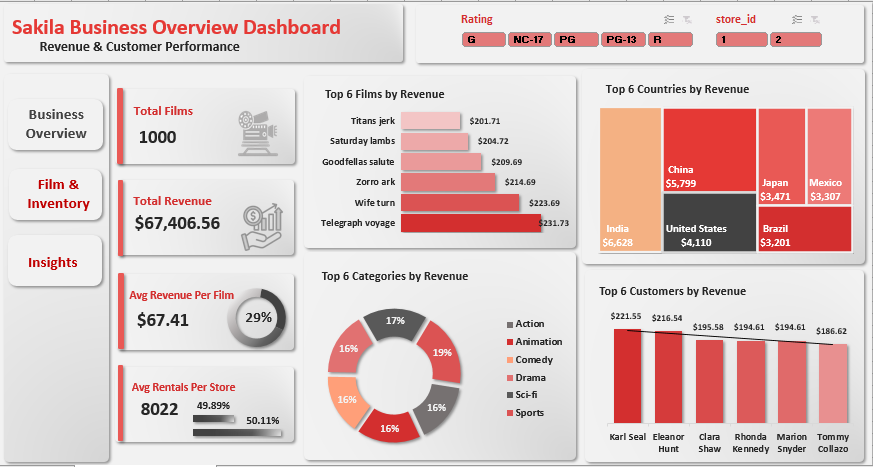

This screenshot's page, from the dashboard's own definition file:
{"tool":"powerbi","page":{"name":"business overview ","canvas":[1280,720],"ordinal":0},"visuals":[{"type":"shape","box":[0,0,1280.2,720],"z":0},{"type":"shape","box":[2.9,1.4,555.8,99.4],"z":1000},{"type":"shape","box":[0,99.4,138.2,620.6],"z":2000},{"type":"shape","box":[894.2,410.4,385.9,309.6],"z":3000},{"type":"shape","box":[893.6,104.1,386.4,310.8],"z":4000},{"type":"shape","box":[499.7,103.7,384.5,311],"z":5000},{"type":"shape","box":[499.7,410.4,384.5,309.6],"z":6000},{"type":"shape","box":[128.2,410.4,371.5,309.6],"z":7000},{"type":"shape","box":[128.2,262.1,181.4,149.8],"z":8000},{"type":"shape","box":[309.6,260.6,190.1,149.8],"z":9000},{"type":"shape","box":[312.5,110.9,190.1,149.8],"z":10000},{"type":"shape","box":[128.2,110.9,181.4,149.8],"z":11000},{"type":"textbox","box":[14.4,17.3,544.3,64.8],"z":12000},{"type":"shape","box":[0,158.4,128.2,102.2],"z":13000},{"type":"shape","box":[0,372.7,128.6,102.6],"z":14000},{"type":"textbox","box":[152.6,129.6,108,37.4],"z":15000},{"type":"shape","box":[128.2,110.9,25.9,149.8],"z":16000},{"type":"shape","box":[313.9,260.6,25.9,149.8],"z":17000},{"type":"shape","box":[128.2,262.1,25.9,149.8],"z":18000},{"type":"shape","box":[313.9,110.9,25.9,149.8],"z":19000},{"type":"textbox","box":[339.8,273.6,133.9,51.8],"z":20000},{"type":"textbox","box":[154.1,280.8,133.9,37.4],"z":21000},{"type":"textbox","box":[331.2,122.4,151.2,54.7],"z":22000},{"type":"cardVisual","fields":{"Data":["actor.FilmRevenue"]},"box":[144,299.8,166.3,68.1],"z":23000},{"type":"lineChart","fields":{"Y":["Sum(payment.amount)"],"Category":["date table.month name","date table.year"]},"box":[512.6,460.8,357.1,259.2],"z":24000},{"type":"columnChart","fields":{"Category":["customer.full name"],"Y":["Sum(payment.amount)"]},"box":[907.2,149.1,372.8,262.7],"z":25000},{"type":"barChart","fields":{"Category":["payment_sql.title"],"Y":["Sum(payment_sql.revenue)"]},"box":[506.9,129.6,377.3,273.6],"z":26000},{"type":"donutChart","fields":{"Category":["country_sql.country"],"Y":["Sum(country_sql.revenue)"]},"box":[133.9,423.4,368.6,296.6],"z":27000},{"type":"lineChart","fields":{"Category":["payment_sql.title"],"Y":["Sum(payment_sql.revenue)"]},"box":[138.2,337,175.7,70.6],"z":28000},{"type":"gauge","fields":{"Y":["actor.avg revenue per film"]},"box":[315.4,185.8,197.3,72],"z":29000},{"type":"gauge","fields":{"Y":["actor.avg rentals per store"]},"box":[321.1,335.5,178.6,72],"z":30000},{"type":"shape","box":[152.6,167,128.2,67.7],"z":31000},{"type":"cardVisual","fields":{"Data":["CountNonNull(film.title)"]},"box":[168.9,167.6,119.1,65.5],"z":32000},{"type":"treemap","fields":{"Group":["category.name"],"Values":["Sum(payment.amount)"]},"box":[141.1,460.8,347,252],"z":33000},{"type":"textbox","box":[54.7,51.8,325.4,37.4],"z":34000},{"type":"textbox","box":[518.4,121,260.6,37.4],"z":35000},{"type":"textbox","box":[518.4,423.4,260.6,37.4],"z":36000},{"type":"textbox","box":[144,423.4,260.6,37.4],"z":37000},{"type":"textbox","box":[907.2,423.4,260.6,37.4],"z":38000},{"type":"shape","box":[578.7,0,701.3,99.4],"z":39000},{"type":"textbox","box":[907.2,121,260.6,37.4],"z":40000},{"type":"slicer","fields":{"Values":["film.rating"]},"box":[607.7,14.4,165.6,70.6],"z":41000},{"type":"slicer","fields":{"Values":["store.store_id"]},"box":[789.4,11.8,209.5,77.2],"z":42000},{"type":"slicer","fields":{"Values":["category.name"]},"box":[1003.7,11.5,256.3,77.8],"z":43000},{"type":"shape","box":[0,270.7,128.2,102.2],"z":44000},{"type":"textbox","title":"Business Overview","box":[0,186.4,134.4,76.6],"z":45000},{"type":"actionButton","box":[13,286,99.7,73.7],"z":46000},{"type":"actionButton","box":[14.4,404.5,99.7,40.5],"z":47000},{"type":"filledMap","fields":{"Category":["country.country"]},"box":[907.2,460.8,361.4,241.9],"z":48000}]}

Visuals, with their boxes on the page's 1280x720 design canvas (x1, y1, x2, y2). These are canvas units, not pixel positions in the 873x467 screenshot, which may show the page scaled, cropped or inside an application window:
shape: box=[0, 0, 1280, 720]
shape: box=[3, 1, 559, 101]
shape: box=[0, 99, 138, 720]
shape: box=[894, 410, 1280, 720]
shape: box=[894, 104, 1280, 415]
shape: box=[500, 104, 884, 415]
shape: box=[500, 410, 884, 720]
shape: box=[128, 410, 500, 720]
shape: box=[128, 262, 310, 412]
shape: box=[310, 261, 500, 410]
shape: box=[312, 111, 503, 261]
shape: box=[128, 111, 310, 261]
textbox: box=[14, 17, 559, 82]
shape: box=[0, 158, 128, 261]
shape: box=[0, 373, 129, 475]
textbox: box=[153, 130, 261, 167]
shape: box=[128, 111, 154, 261]
shape: box=[314, 261, 340, 410]
shape: box=[128, 262, 154, 412]
shape: box=[314, 111, 340, 261]
textbox: box=[340, 274, 474, 325]
textbox: box=[154, 281, 288, 318]
textbox: box=[331, 122, 482, 177]
cardVisual - actor.FilmRevenue: box=[144, 300, 310, 368]
lineChart - Sum(payment.amount) x date table.month name: box=[513, 461, 870, 720]
columnChart - customer.full name x Sum(payment.amount): box=[907, 149, 1280, 412]
barChart - payment_sql.title x Sum(payment_sql.revenue): box=[507, 130, 884, 403]
donutChart - country_sql.country x Sum(country_sql.revenue): box=[134, 423, 502, 720]
lineChart - payment_sql.title x Sum(payment_sql.revenue): box=[138, 337, 314, 408]
gauge - actor.avg revenue per film: box=[315, 186, 513, 258]
gauge - actor.avg rentals per store: box=[321, 336, 500, 408]
shape: box=[153, 167, 281, 235]
cardVisual - CountNonNull(film.title): box=[169, 168, 288, 233]
treemap - category.name x Sum(payment.amount): box=[141, 461, 488, 713]
textbox: box=[55, 52, 380, 89]
textbox: box=[518, 121, 779, 158]
textbox: box=[518, 423, 779, 461]
textbox: box=[144, 423, 405, 461]
textbox: box=[907, 423, 1168, 461]
shape: box=[579, 0, 1280, 99]
textbox: box=[907, 121, 1168, 158]
slicer - film.rating: box=[608, 14, 773, 85]
slicer - store.store_id: box=[789, 12, 999, 89]
slicer - category.name: box=[1004, 12, 1260, 89]
shape: box=[0, 271, 128, 373]
"Business Overview" textbox: box=[0, 186, 134, 263]
actionButton: box=[13, 286, 113, 360]
actionButton: box=[14, 404, 114, 445]
filledMap - country.country: box=[907, 461, 1269, 703]
